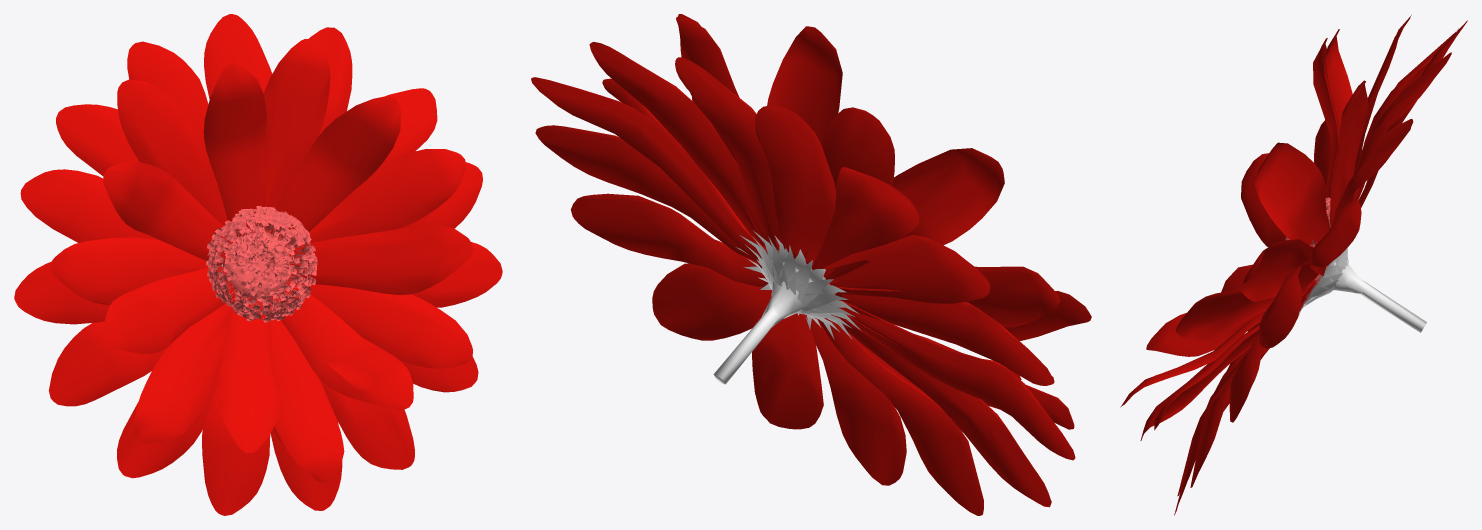
3 renders of one model, left to right at view 1: azimuth 30°, elevation 25°; view 2: azimuth 150°, elevation 25°; view 3: azimuth 270°, elevation 25°, orthographic. The views are drawn at different scales.
Parts seen in each view (by area): view 1: flover.002; view 2: flover.002; view 3: flover.002.
Boxes of the visible parts, x1=… form: flover.002: x1=14, y1=14, x2=502, y2=515; flover.002: x1=531, y1=14, x2=1091, y2=515; flover.002: x1=1120, y1=15, x2=1467, y2=515.
Bounding box in the file's own units: 1.26 × 1.13 × 0.7807.
